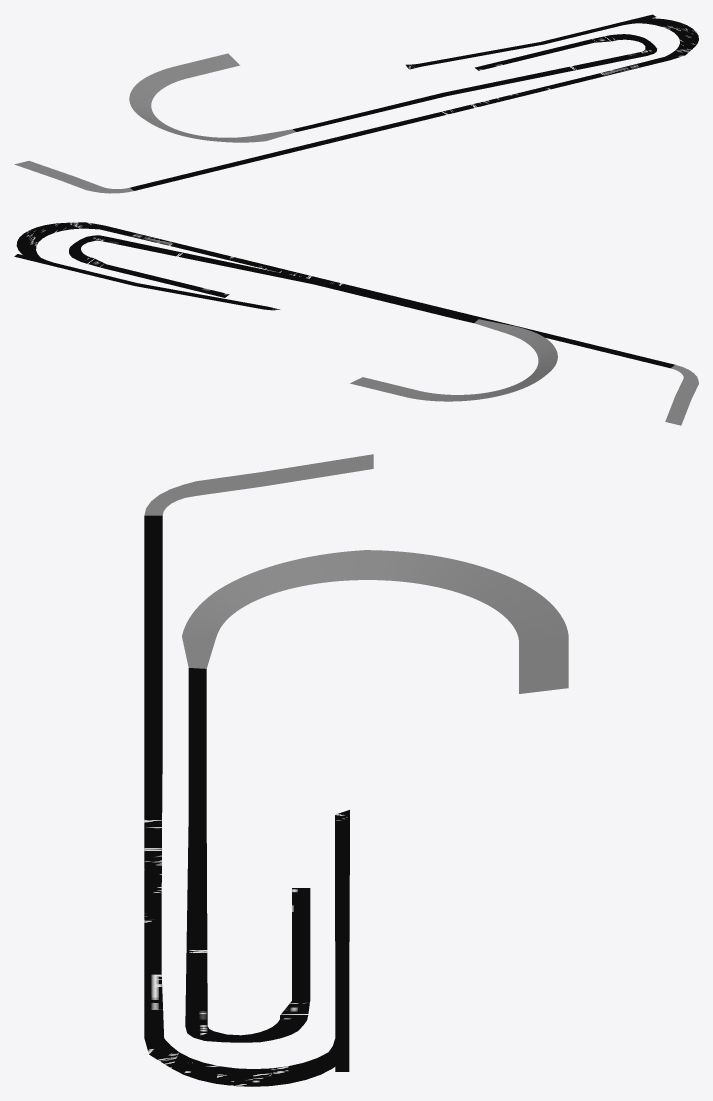
File: mHistoricV3BetaTwo.glb
3 views of the same model, one above another, from view 1: azimuth 30°, elevation 25°; view 2: azimuth 150°, elevation 25°; view 3: azimuth 270°, elevation 25° (orthographic). The views are drawn at different scales.
Parts seen in each view (by area): view 1: track; view 2: track; view 3: track.
Part boxes in pixels (x1,y1,x2,y2): track: (14,14,698,193); track: (14,222,698,425); track: (144,454,568,1086).
Bounding box in the file's own units: 1379 × 30.56 × 391.
1 material, 1 textured.
